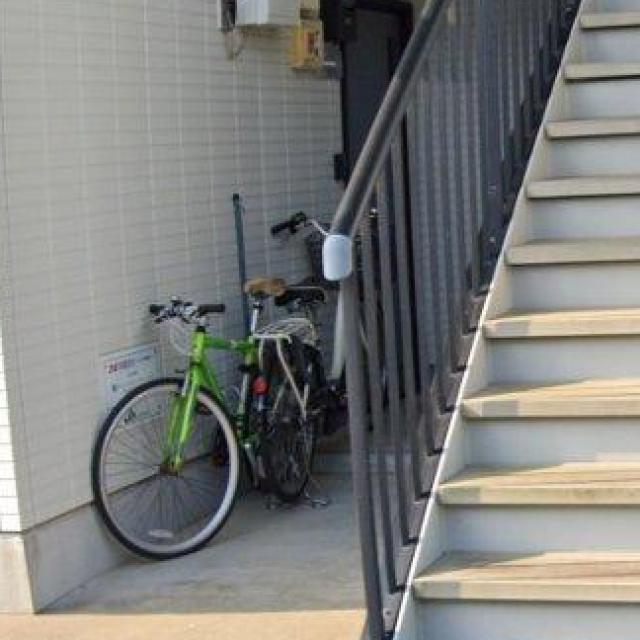bicycle: (80, 256, 276, 558), (220, 183, 394, 506)
